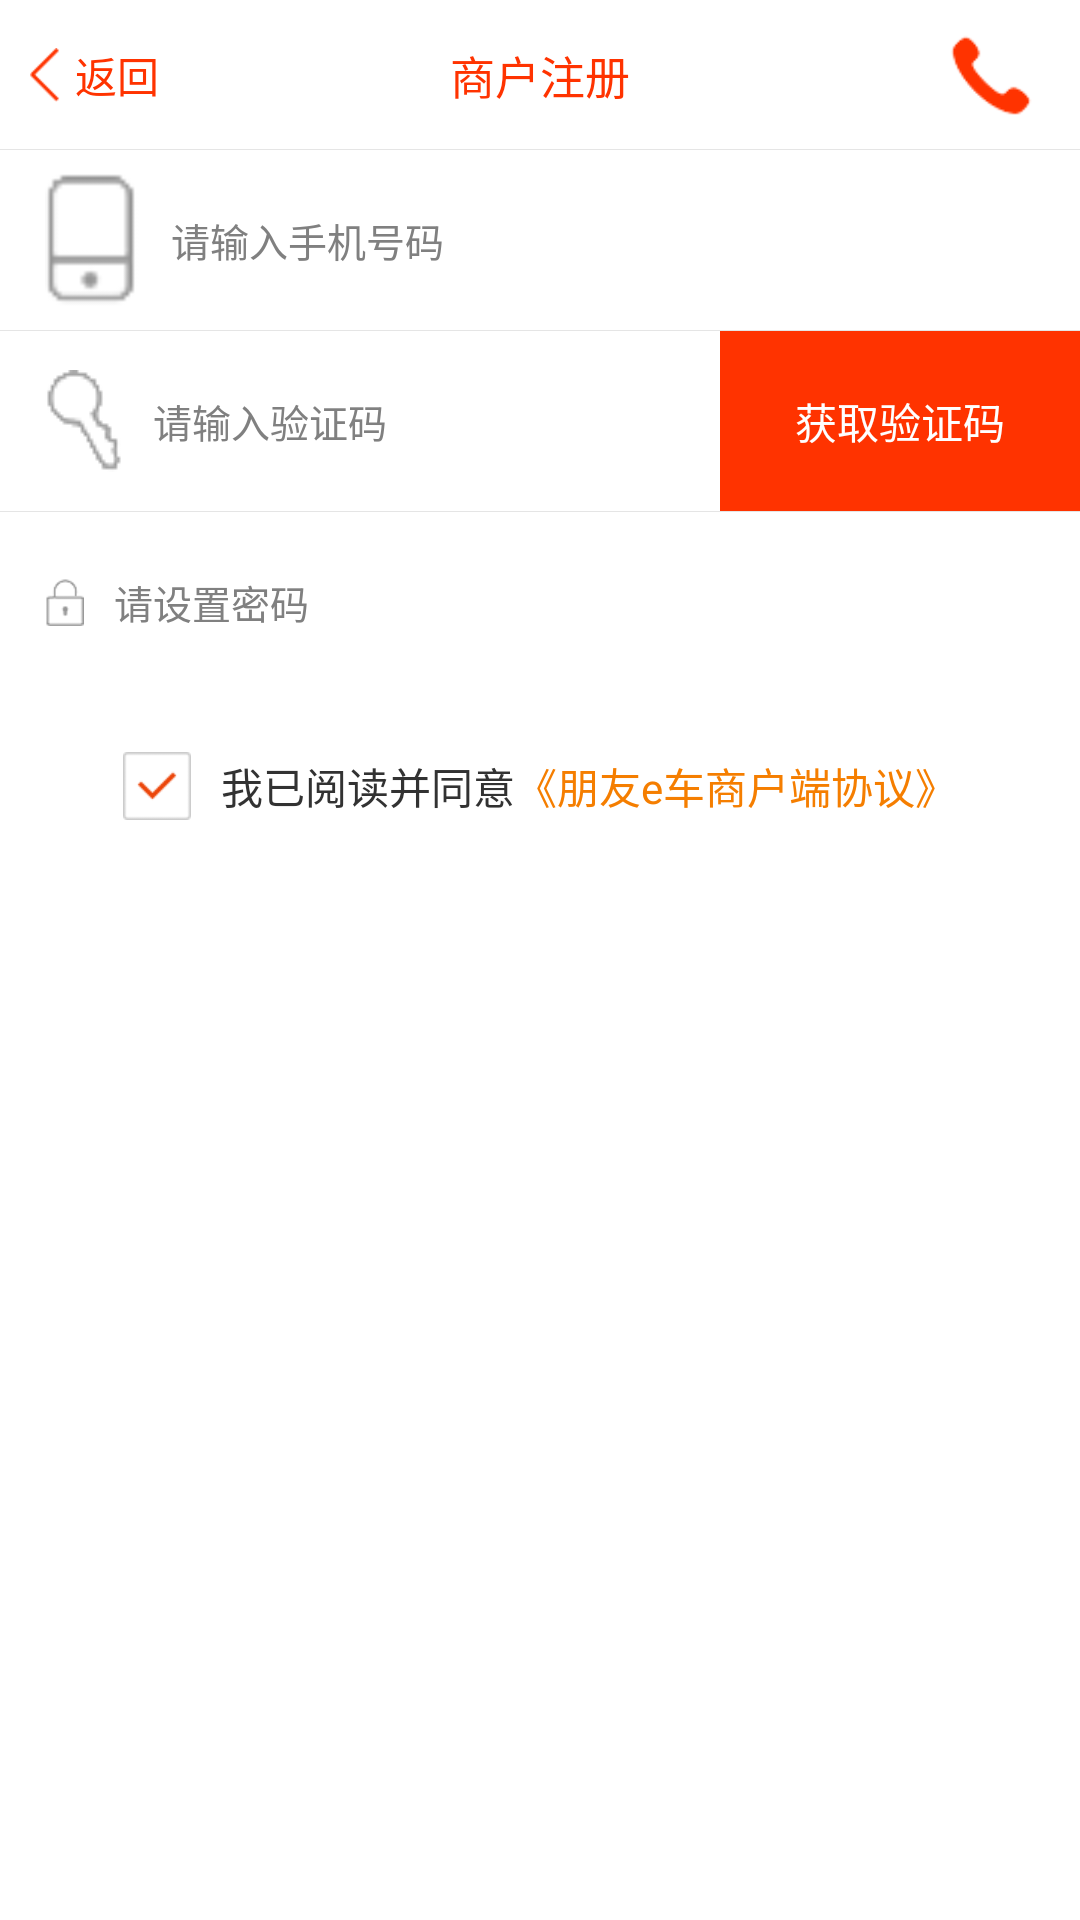

Where icons sit on this 1080px×1920px app screen, as detection(x1, y1, x2, y2):
key: detection(47, 370, 121, 470)
lock: detection(46, 579, 84, 626)
